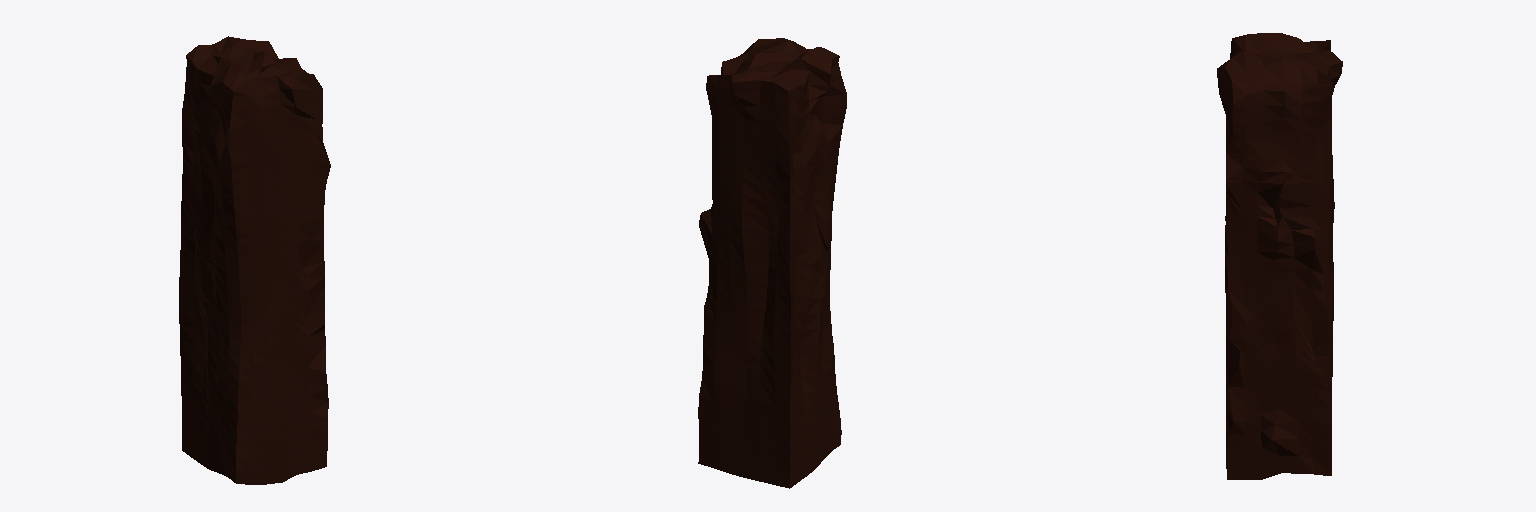
Rendered from 2stoneblock.obj.
3 views of the same model, side by side, from view 1: azimuth 30°, elevation 25°; view 2: azimuth 150°, elevation 25°; view 3: azimuth 270°, elevation 25° (orthographic).
Visible parts, largest first — view 1: Cube.001_Cube.003; view 2: Cube.001_Cube.003; view 3: Cube.001_Cube.003.
Boxes of the visible parts, box(x1,y1,x2,y2) form: Cube.001_Cube.003: box(179, 36, 330, 484); Cube.001_Cube.003: box(698, 38, 846, 488); Cube.001_Cube.003: box(1217, 33, 1342, 479).
Bounding box in the file's own units: 2.4 × 8.67 × 2.4.